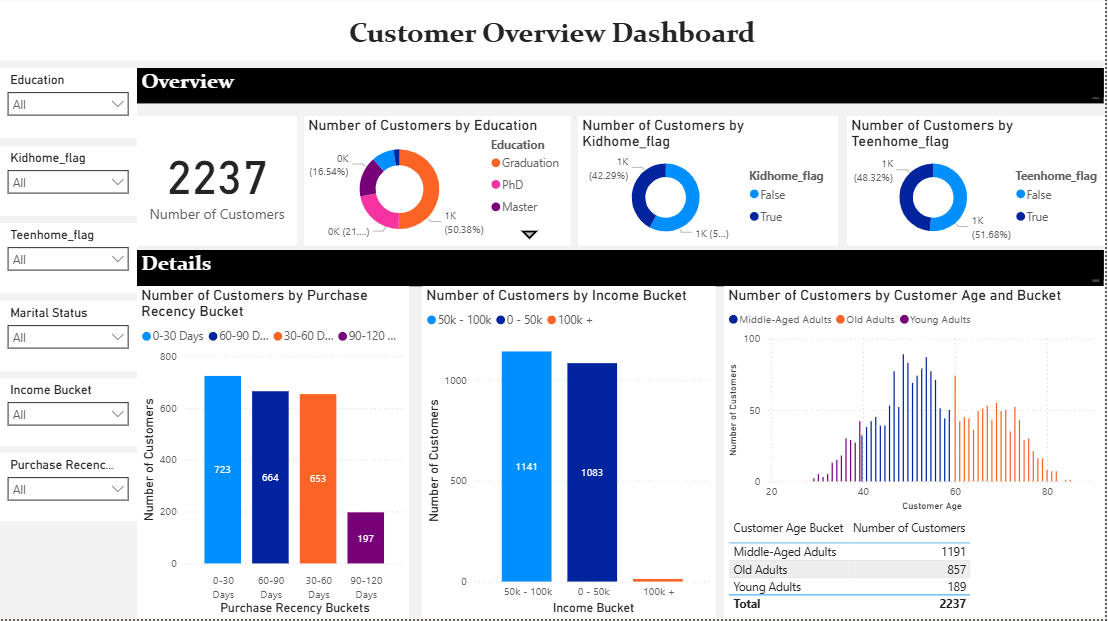

This screenshot's page, from the dashboard's own definition file:
{"tool":"powerbi","page":{"name":"Customer Overview Dashoard","canvas":[1280,720],"ordinal":0},"visuals":[{"type":"textbox","box":[0,0,1280.3,74.1],"z":0},{"type":"slicer","fields":{"Values":["Customer Overview Data.Education"]},"box":[0,82.2,159.7,81],"z":1000},{"type":"slicer","fields":{"Values":["Customer Overview Data.Kidhome_flag"]},"box":[0,172.5,159.7,81],"z":2000},{"type":"slicer","fields":{"Values":["Customer Overview Data.Teenhome_flag"]},"box":[0,261.6,159.7,81],"z":3000},{"type":"slicer","fields":{"Values":["Customer Overview Data.Marital Status"]},"box":[0,351.9,159.7,81],"z":4000},{"type":"textbox","title":"Overview","box":[159.7,82.2,1119.4,40.5],"z":5000},{"type":"card","fields":{"Values":["Customer Overview Data.Number of Customers"]},"box":[159.7,137.7,185.2,150.5],"z":6000},{"type":"donutChart","fields":{"Category":["Customer Overview Data.Education"],"Y":["Customer Overview Data.Number of Customers"]},"box":[353.1,137.7,309.1,150.5],"z":7000},{"type":"donutChart","fields":{"Y":["Customer Overview Data.Number of Customers"],"Category":["Customer Overview Data.Kidhome_flag"]},"box":[670.2,137.7,301,150.5],"z":8000},{"type":"donutChart","fields":{"Y":["Customer Overview Data.Number of Customers"],"Category":["Customer Overview Data.Teenhome_flag"]},"box":[981.6,137.7,298.6,150.5],"z":9000},{"type":"textbox","title":"Details","box":[159.7,292.9,1119.4,41.7],"z":10000},{"type":"clusteredColumnChart","title":"Number of Customers by Customer Age and Bucket","fields":{"Y":["Customer Overview Data.Number of Customers"],"Category":["Customer Overview Data.Customer Age"],"Series":["Customer Overview Data.Customer Age Bucket"]},"box":[839.2,334.5,439.9,265.1],"z":11000},{"type":"tableEx","fields":{"Values":["Customer Overview Data.Customer Age Bucket","Customer Overview Data.Number of Customers"]},"box":[839.2,599.6,439.9,120.4],"z":12000},{"type":"columnChart","title":"Number of Customers by Income Bucket ","fields":{"Y":["Customer Overview Data.Number of Customers"],"Category":["Customer Overview Data.Income Bucket"],"Series":["Customer Overview Data.Income Bucket"]},"box":[489.6,334.5,340.3,385.5],"z":13000},{"type":"slicer","fields":{"Values":["Customer Overview Data.Income Bucket"]},"box":[0,441,159.7,78.7],"z":13001},{"type":"slicer","fields":{"Values":["Customer Overview Data.Purchase Recency Buckets"]},"box":[0,527.8,159.7,78.7],"z":13002},{"type":"columnChart","title":"Number of Customers by Purchase Recency  Bucket ","fields":{"Y":["Customer Overview Data.Number of Customers"],"Category":["Customer Overview Data.Purchase Recency Buckets"],"Series":["Customer Overview Data.Purchase Recency Buckets"]},"box":[159.7,334.5,314.9,385.5],"z":13003}]}

Visuals, with their boxes in screenshot pixels (x1, y1, x2, y2), scaled from the page's 1280x720 canvas onto the 1108x621 screenshot:
textbox: x1=0 y1=0 x2=1107 y2=64
slicer - Customer Overview Data.Education: x1=0 y1=71 x2=138 y2=141
slicer - Customer Overview Data.Kidhome_flag: x1=0 y1=149 x2=138 y2=219
slicer - Customer Overview Data.Teenhome_flag: x1=0 y1=226 x2=138 y2=295
slicer - Customer Overview Data.Marital Status: x1=0 y1=304 x2=138 y2=373
"Overview" textbox: x1=138 y1=71 x2=1107 y2=106
card - Customer Overview Data.Number of Customers: x1=138 y1=119 x2=299 y2=249
donutChart - Customer Overview Data.Education x Customer Overview Data.Number of Customers: x1=306 y1=119 x2=573 y2=249
donutChart - Customer Overview Data.Number of Customers x Customer Overview Data.Kidhome_flag: x1=580 y1=119 x2=841 y2=249
donutChart - Customer Overview Data.Number of Customers x Customer Overview Data.Teenhome_flag: x1=850 y1=119 x2=1107 y2=249
"Details" textbox: x1=138 y1=253 x2=1107 y2=289
"Number of Customers by Customer Age and Bucket" clusteredColumnChart: x1=726 y1=289 x2=1107 y2=517
tableEx - Customer Overview Data.Customer Age Bucket x Customer Overview Data.Number of Customers: x1=726 y1=517 x2=1107 y2=620
"Number of Customers by Income Bucket " columnChart: x1=424 y1=289 x2=718 y2=620
slicer - Customer Overview Data.Income Bucket: x1=0 y1=380 x2=138 y2=448
slicer - Customer Overview Data.Purchase Recency Buckets: x1=0 y1=455 x2=138 y2=523
"Number of Customers by Purchase Recency  Bucket " columnChart: x1=138 y1=289 x2=411 y2=620
